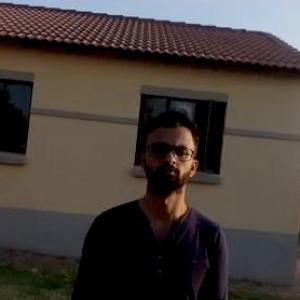follow: (66, 107, 234, 299)
